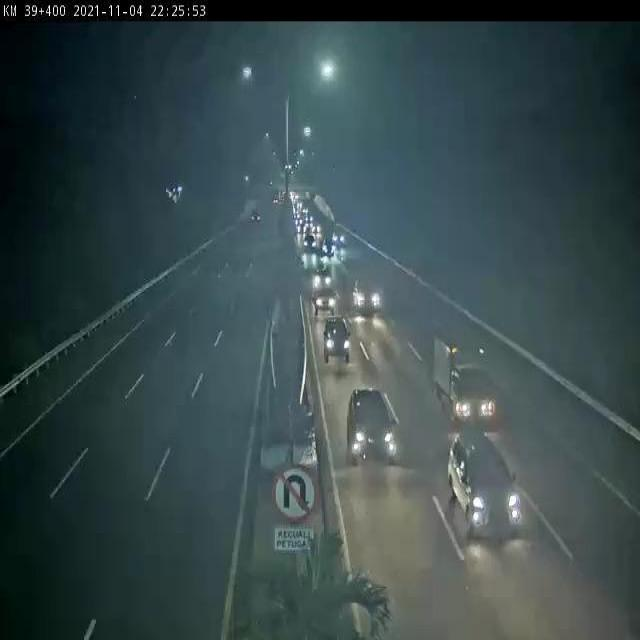car: (445, 436, 529, 549), (351, 382, 395, 462), (319, 314, 355, 374), (356, 279, 381, 313), (317, 287, 337, 312), (313, 265, 334, 288), (331, 226, 346, 246), (325, 240, 337, 256), (305, 239, 314, 249)
truck-s-: (432, 344, 506, 419)
